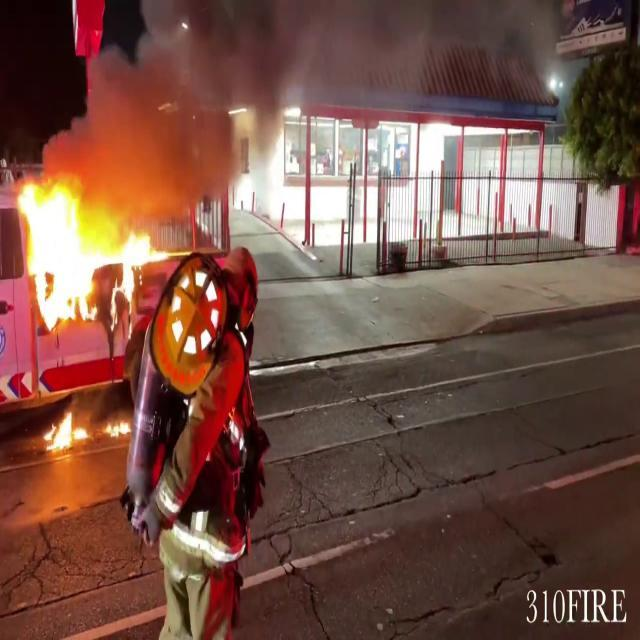Fire: (14, 166, 160, 330), (42, 405, 90, 455)
Smoke: (44, 0, 428, 172)
